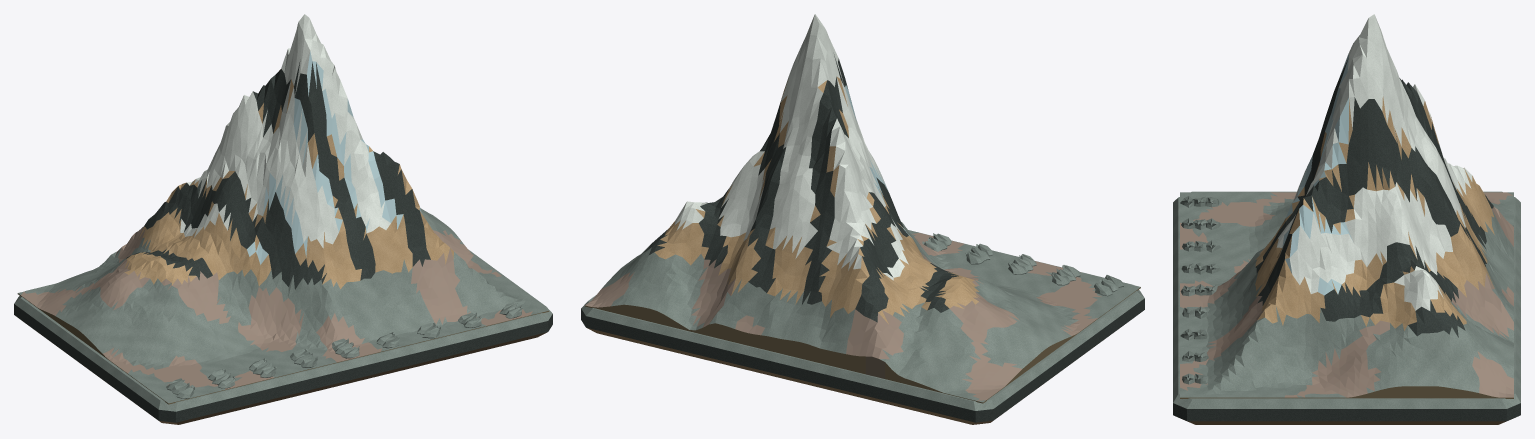
Rendered from everest.glb.
3 renders of one model, left to right at view 1: azimuth 30°, elevation 25°; view 2: azimuth 150°, elevation 25°; view 3: azimuth 270°, elevation 25°, orthographic. The views are drawn at different scales.
Visible parts, largest first — view 1: 珠峰景区; view 2: 珠峰景区; view 3: 珠峰景区.
Part boxes in pixels (x1=…): 珠峰景区: x1=14, y1=14, x2=552, y2=424; 珠峰景区: x1=581, y1=14, x2=1144, y2=424; 珠峰景区: x1=1173, y1=14, x2=1520, y2=424.
Size of the model in its own units: 6.15 by 4.4 by 4.25.
9 materials, 4 textured.
